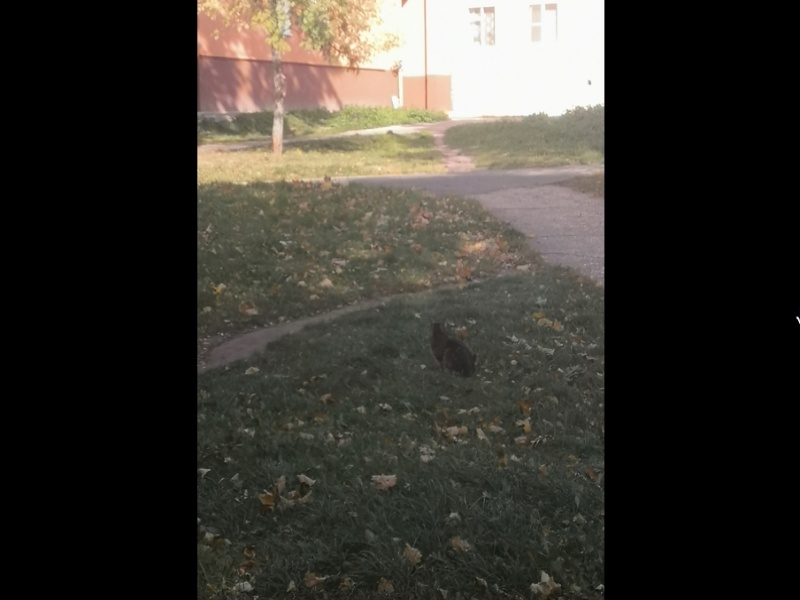cat: (428, 320, 480, 386)
